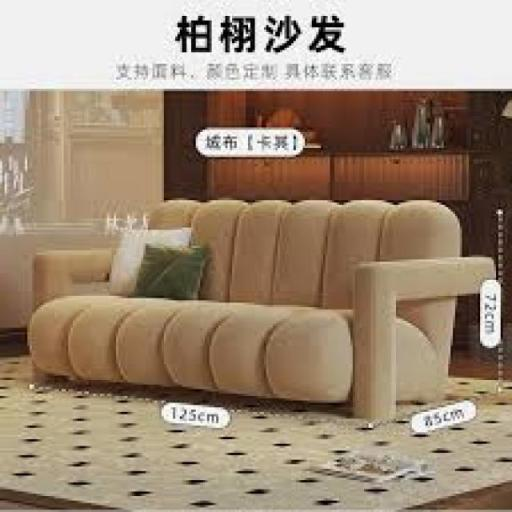sofa: (16, 190, 510, 478)
